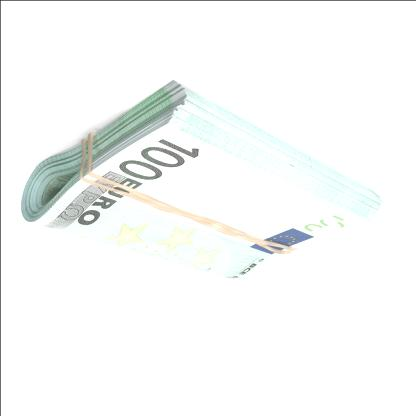euro_banknote: (35, 96, 379, 273)
